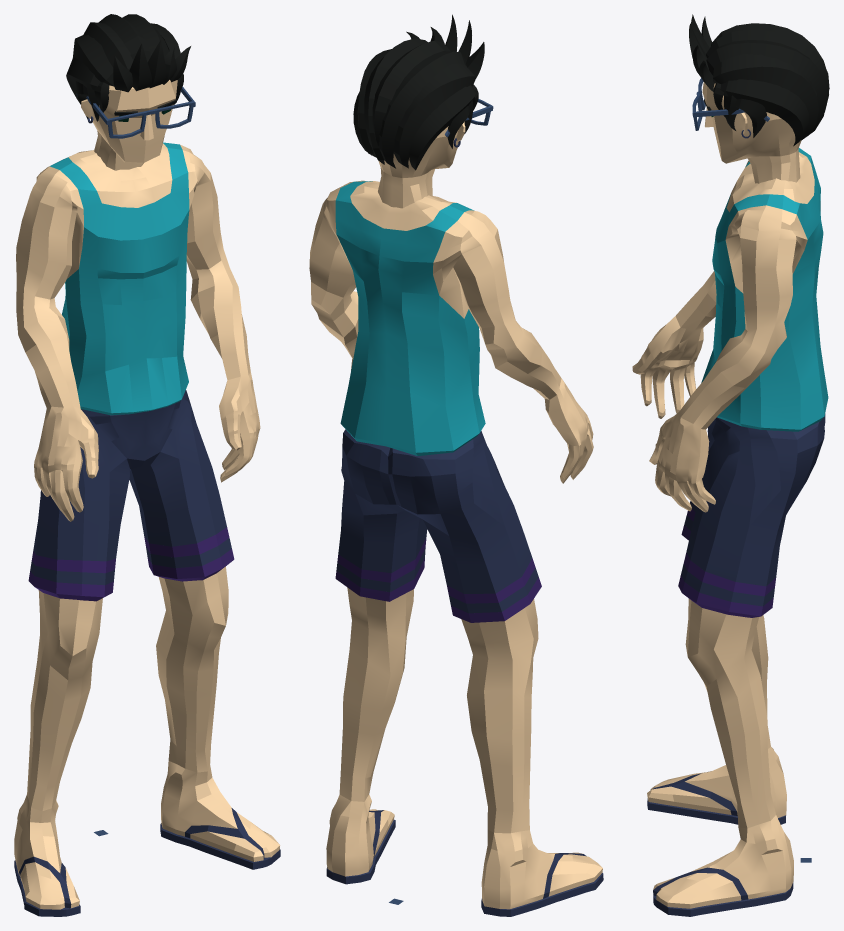
Rendered from avatar-modular-male-impostor.glb.
3 renders of one model, left to right at view 1: azimuth 30°, elevation 25°; view 2: azimuth 150°, elevation 25°; view 3: azimuth 270°, elevation 25°, orthographic.
Visible parts, largest first — view 1: Plane; view 2: Plane; view 3: Plane.
Boxes of the visible parts, x1,y1,x2,y2 form: Plane: [14, 14, 280, 916]; Plane: [309, 14, 603, 916]; Plane: [632, 14, 829, 916].
Size of the model in its own units: 52.05 by 166 by 35.21.
